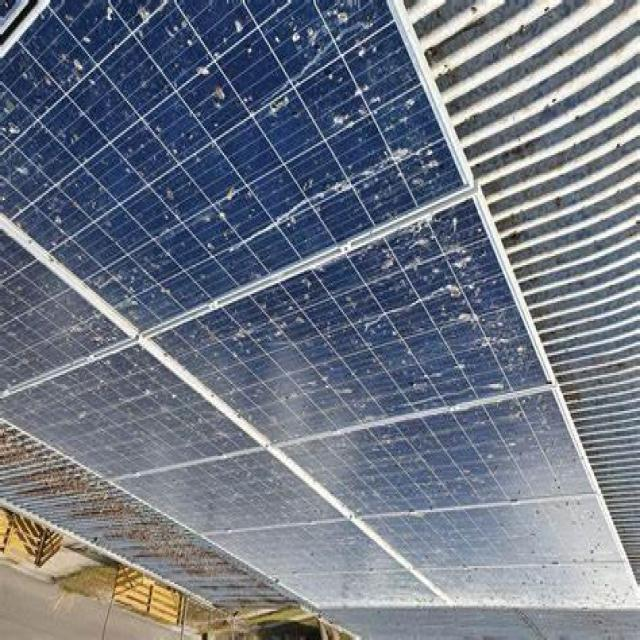soiled: (4, 0, 631, 635)
